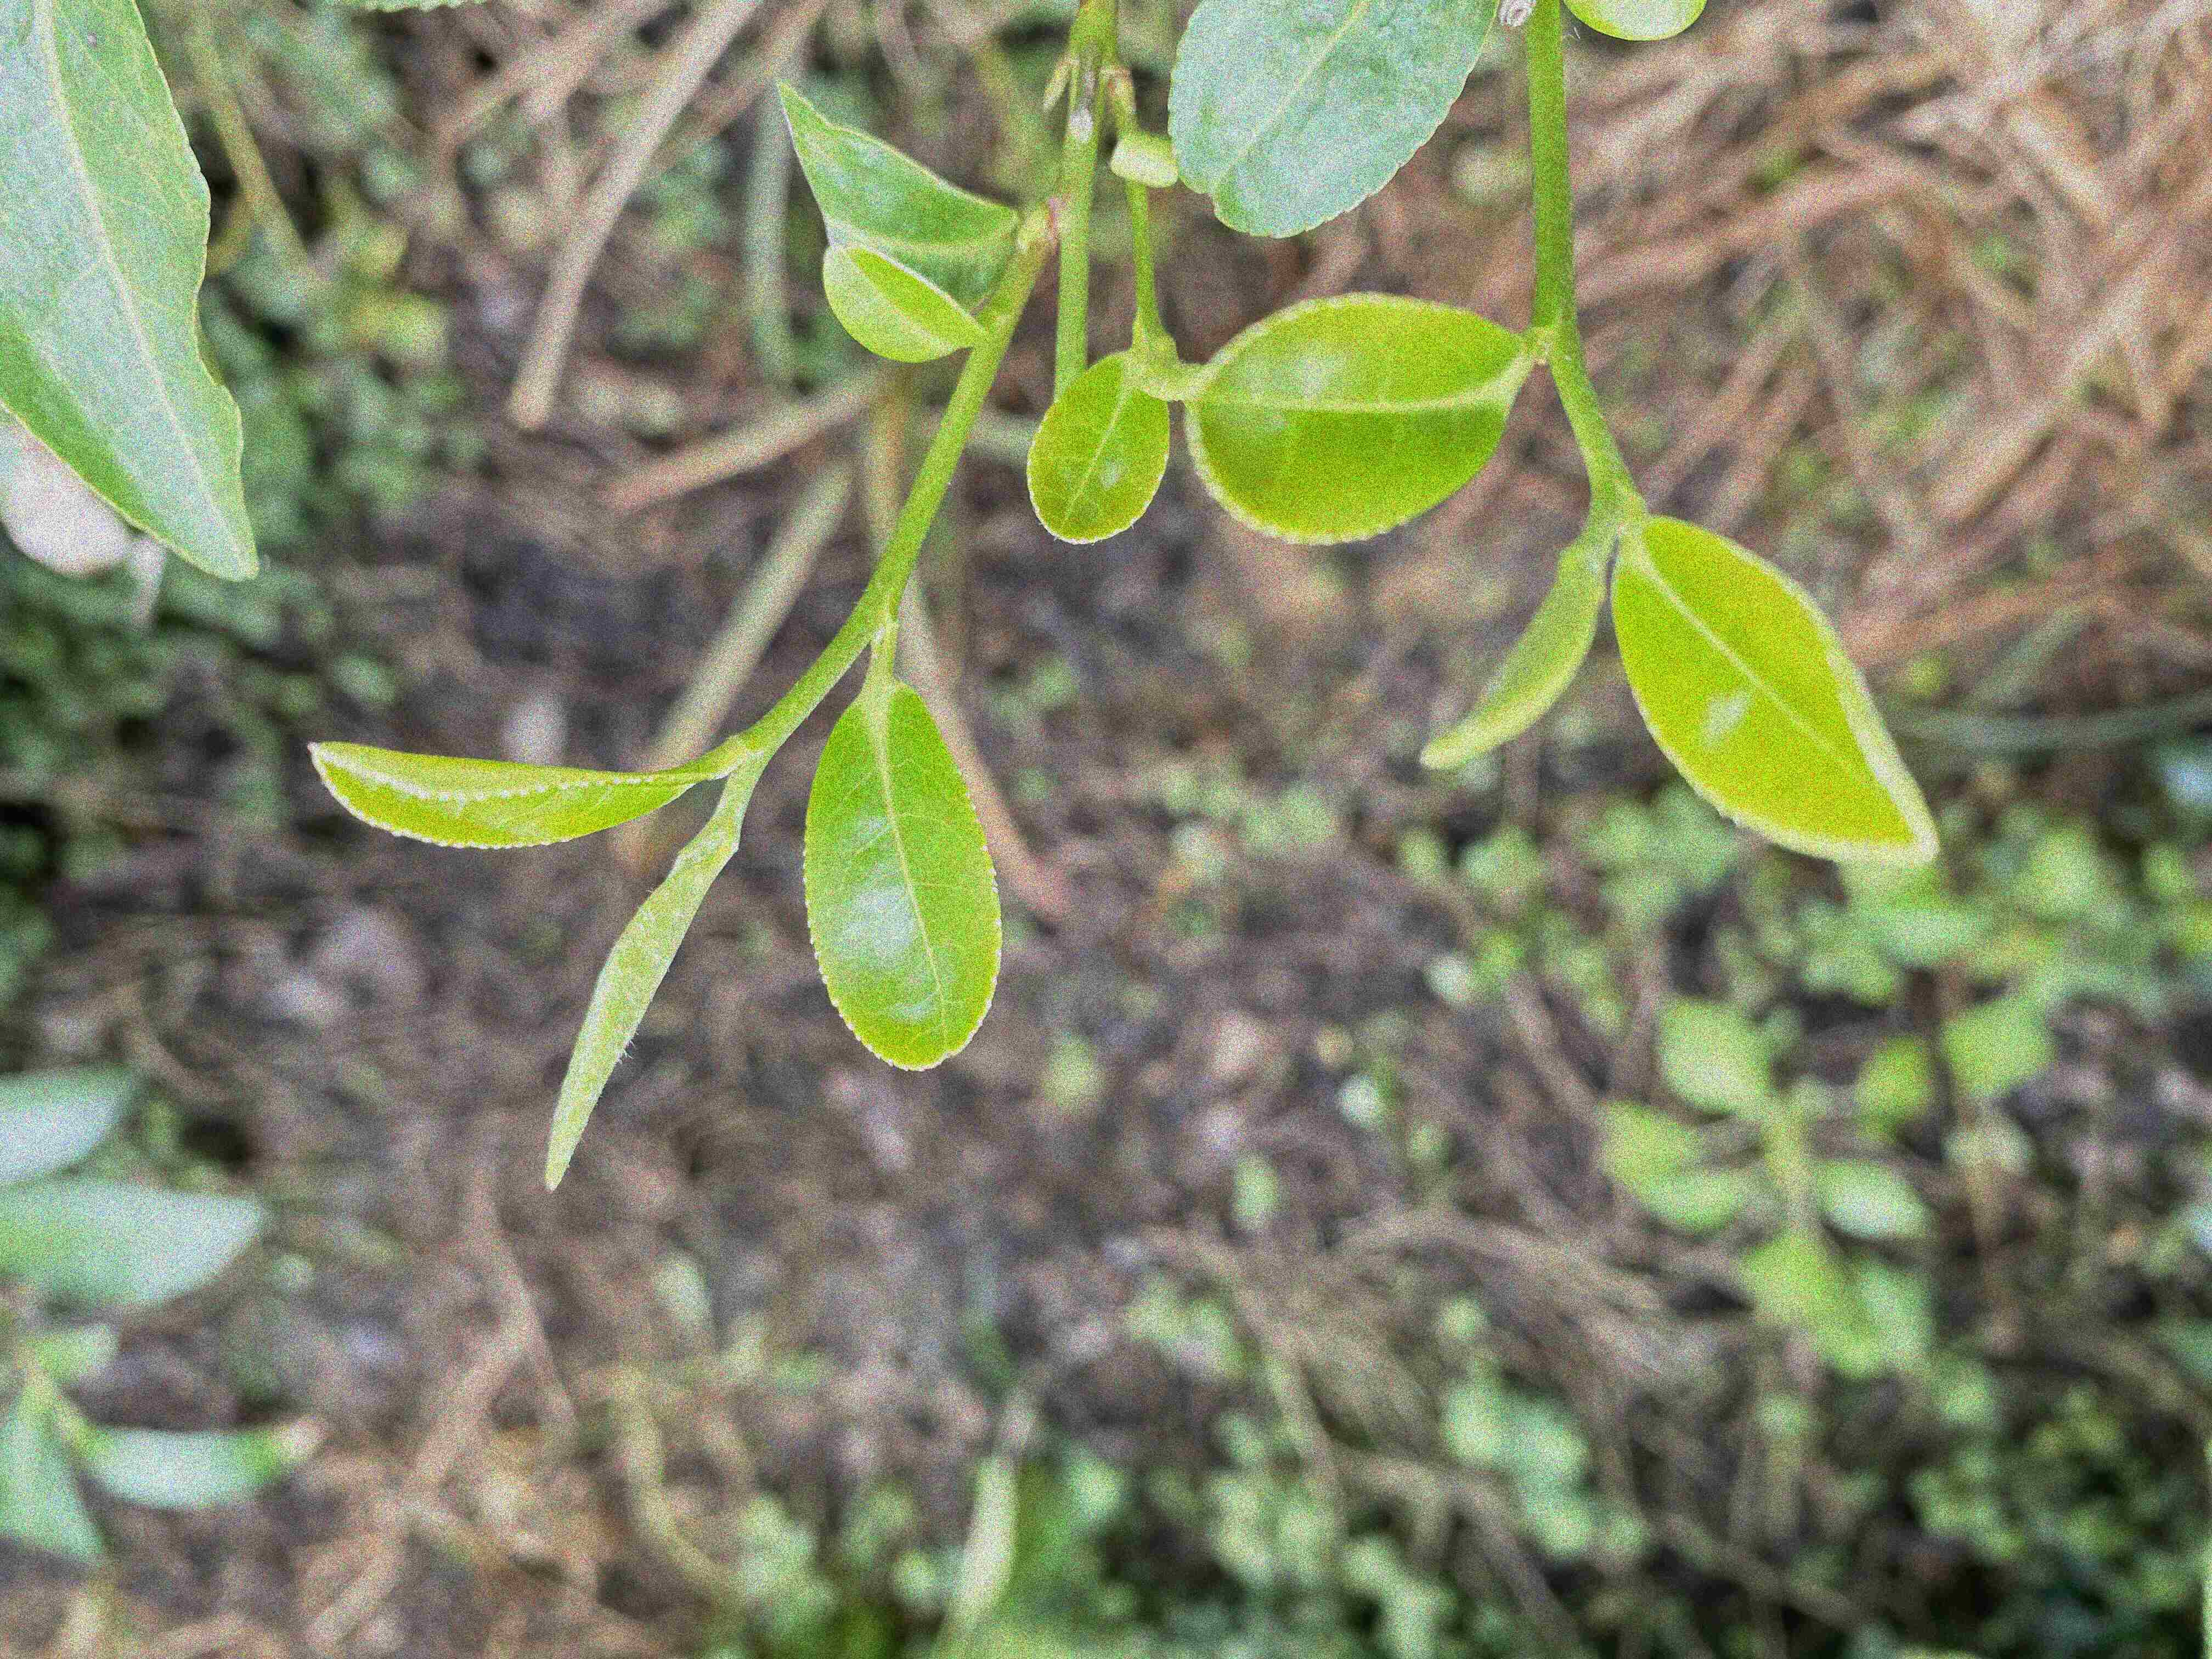healthy: (2, 2, 261, 582), (1604, 514, 1933, 864), (1143, 289, 1534, 545), (798, 676, 1005, 1075), (303, 739, 733, 852), (1026, 349, 1169, 545), (820, 244, 989, 362)
